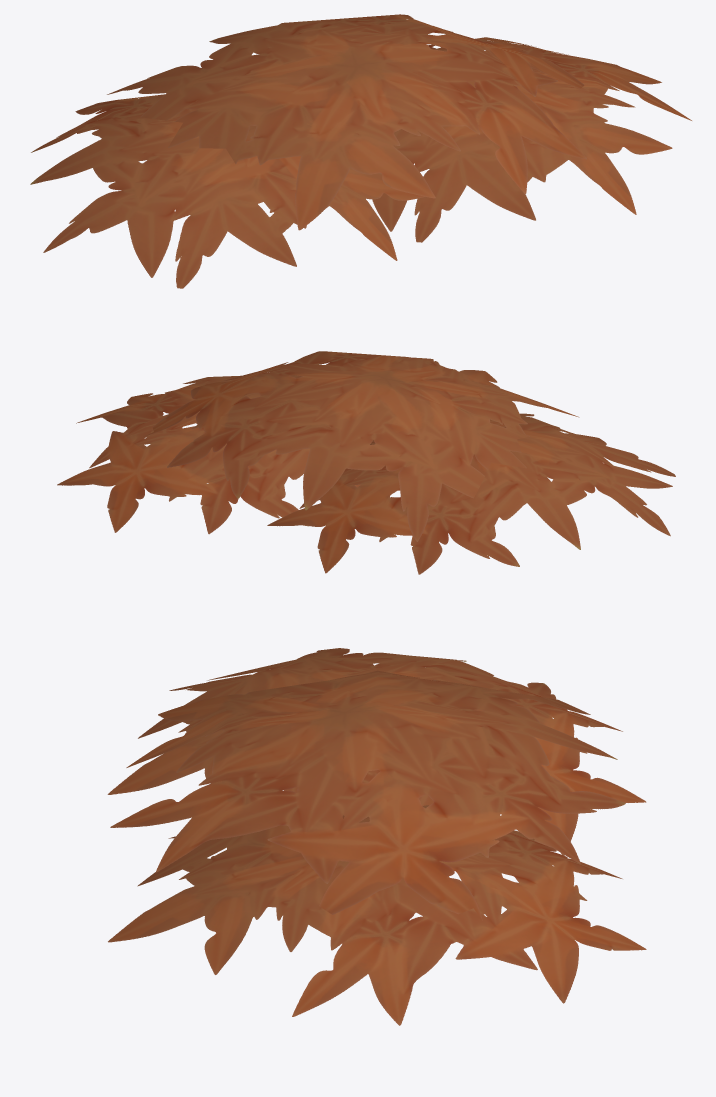
The model's file is Veg_Sanctum_PlantsGroup.fbx.
3 renders of one model, top to bottom at view 1: azimuth 30°, elevation 25°; view 2: azimuth 150°, elevation 25°; view 3: azimuth 270°, elevation 25°, orthographic. The views are drawn at different scales.
Visible parts, largest first — view 1: Veg_Sanctum_PlantsGroup; view 2: Veg_Sanctum_PlantsGroup; view 3: Veg_Sanctum_PlantsGroup.
Boxes of the visible parts, <box> form: Veg_Sanctum_PlantsGroup: <box>30,14,691,288</box>; Veg_Sanctum_PlantsGroup: <box>57,351,675,574</box>; Veg_Sanctum_PlantsGroup: <box>107,648,646,1025</box>.
Size of the model in its own units: 315 by 64.15 by 228.
